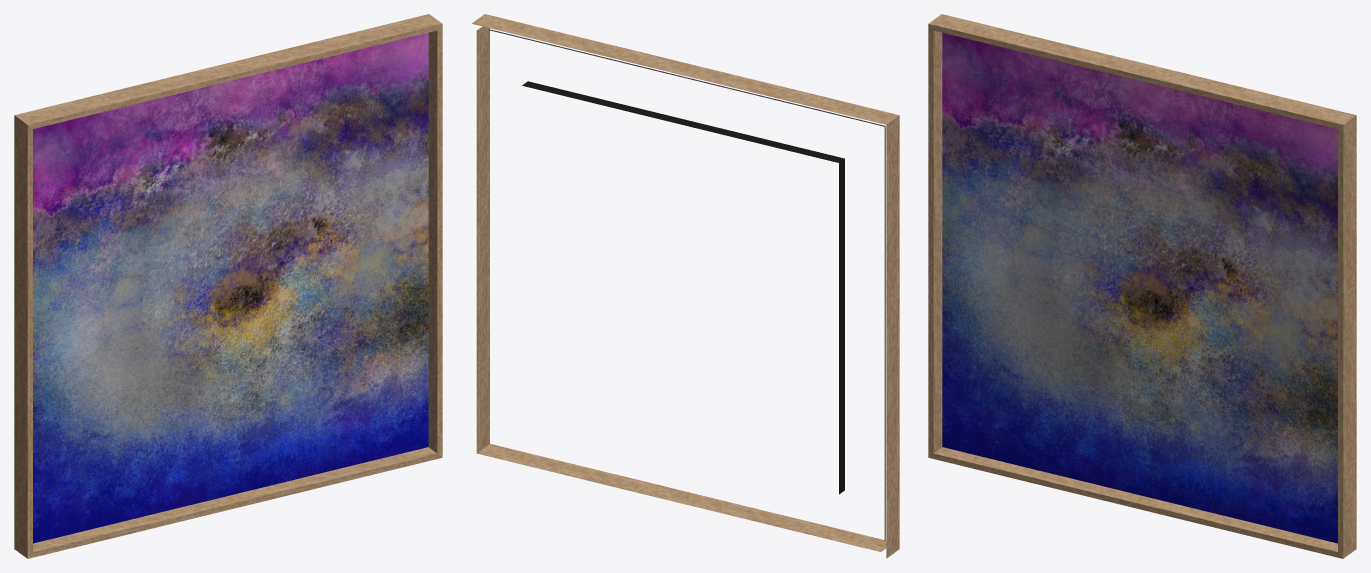
Rendered from va286_moyen_caisse-chene.glb.
The picture shows the model from 3 angles, left to right: view 1: azimuth 30°, elevation 25°; view 2: azimuth 150°, elevation 25°; view 3: azimuth 330°, elevation 25°; orthographic projection.
Visible parts, largest first — view 1: va286_moyen_caisse-chene; view 2: va286_moyen_caisse-chene; view 3: va286_moyen_caisse-chene.
Boxes of the visible parts, <box> form: va286_moyen_caisse-chene: <box>14,14,442,558</box>; va286_moyen_caisse-chene: <box>471,14,899,558</box>; va286_moyen_caisse-chene: <box>928,14,1356,558</box>.
Size of the model in its own units: 0.628 by 0.628 by 0.035.
4 materials, 2 textured.
